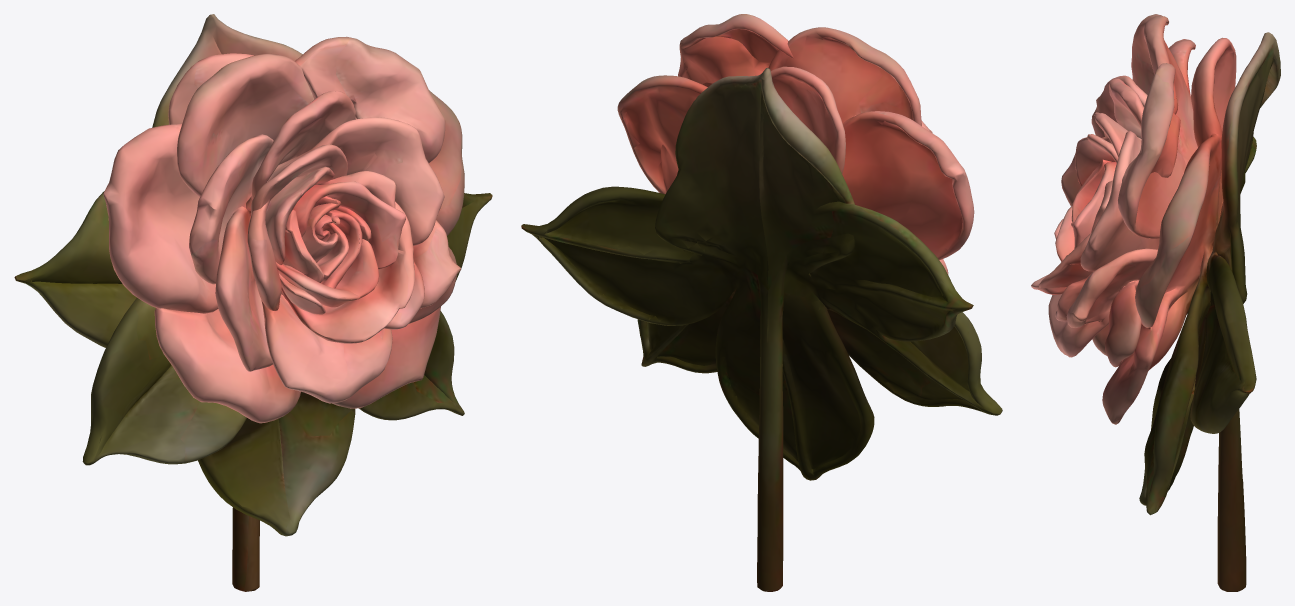
Rendered from coral_garden_rose.glb.
3 views of the same model, side by side, from view 1: azimuth 30°, elevation 25°; view 2: azimuth 150°, elevation 25°; view 3: azimuth 270°, elevation 25° (orthographic). The views are drawn at different scales.
Visible parts, largest first — view 1: model; view 2: model; view 3: model.
Part boxes in pixels (left/top/right/bottom): model: left=14, top=14, right=492, bottom=591; model: left=521, top=14, right=1002, bottom=591; model: left=1031, top=14, right=1280, bottom=591.
Size of the model in its own units: 1.67 by 1.9 by 0.7815.
Materials: 1 (1 with a texture image).
